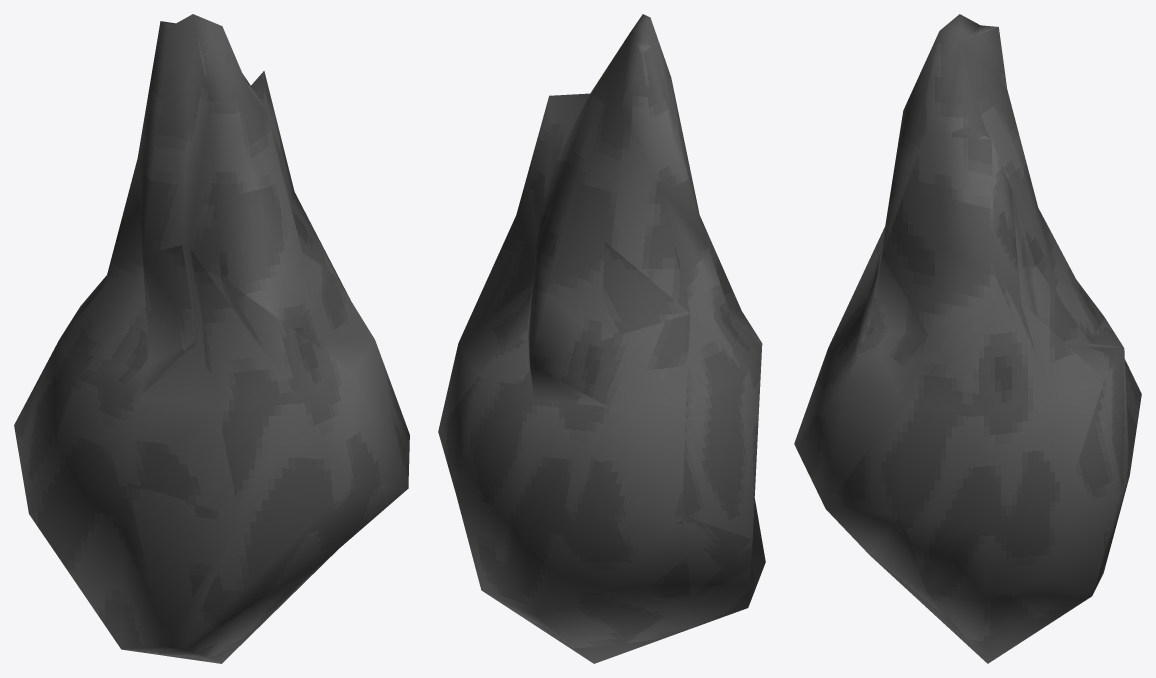
The model's file is Obstacle_RockTall.FBX.
The picture shows the model from 3 angles, left to right: view 1: azimuth 30°, elevation 25°; view 2: azimuth 150°, elevation 25°; view 3: azimuth 270°, elevation 25°; orthographic projection. The views are drawn at different scales.
Parts seen in each view (by area): view 1: Sphere01; view 2: Sphere01; view 3: Sphere01.
Boxes of the visible parts, x1,y1,x2,y2 form: Sphere01: (14, 14, 409, 663); Sphere01: (438, 14, 765, 663); Sphere01: (794, 14, 1141, 663).
Size of the model in its own units: 91.52 by 183 by 91.52.
1 material, 1 textured.
